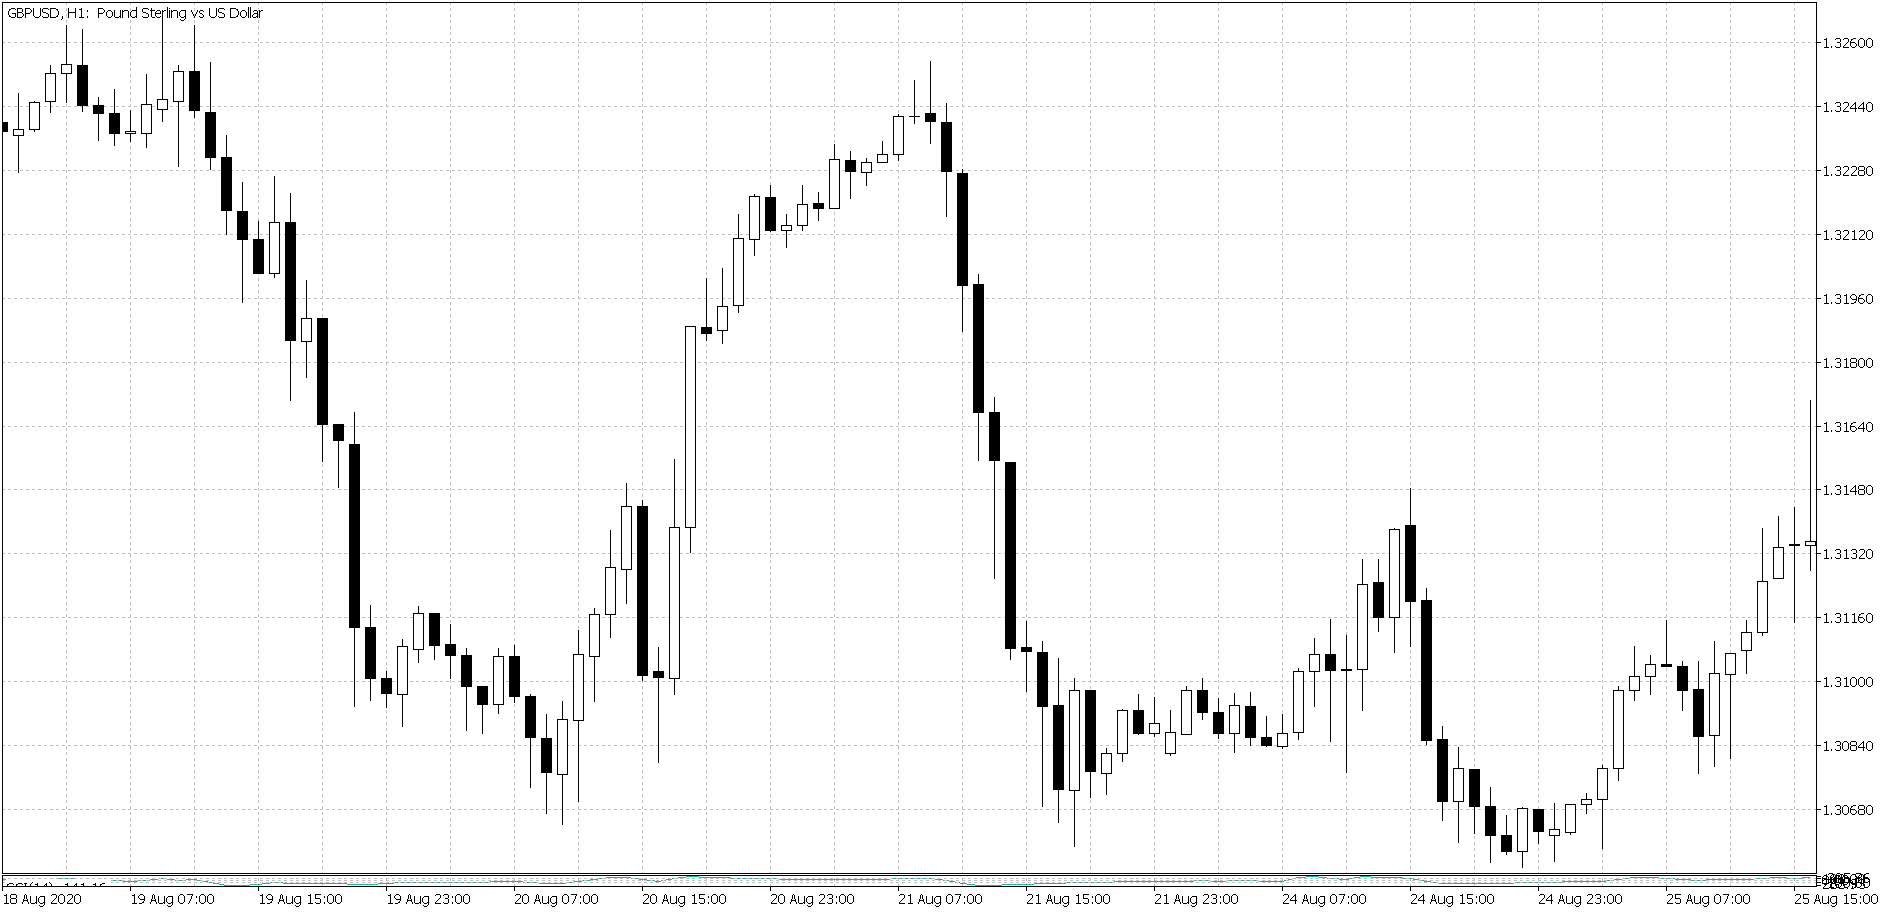3blackcrows: (187, 25, 234, 248)
bullishEngulfing: (1691, 640, 1724, 770), (540, 698, 571, 821)
eveningDojiStar: (891, 62, 939, 169)
eveningStar: (43, 23, 92, 127)
morningStar: (364, 598, 412, 729), (1532, 798, 1580, 868)
